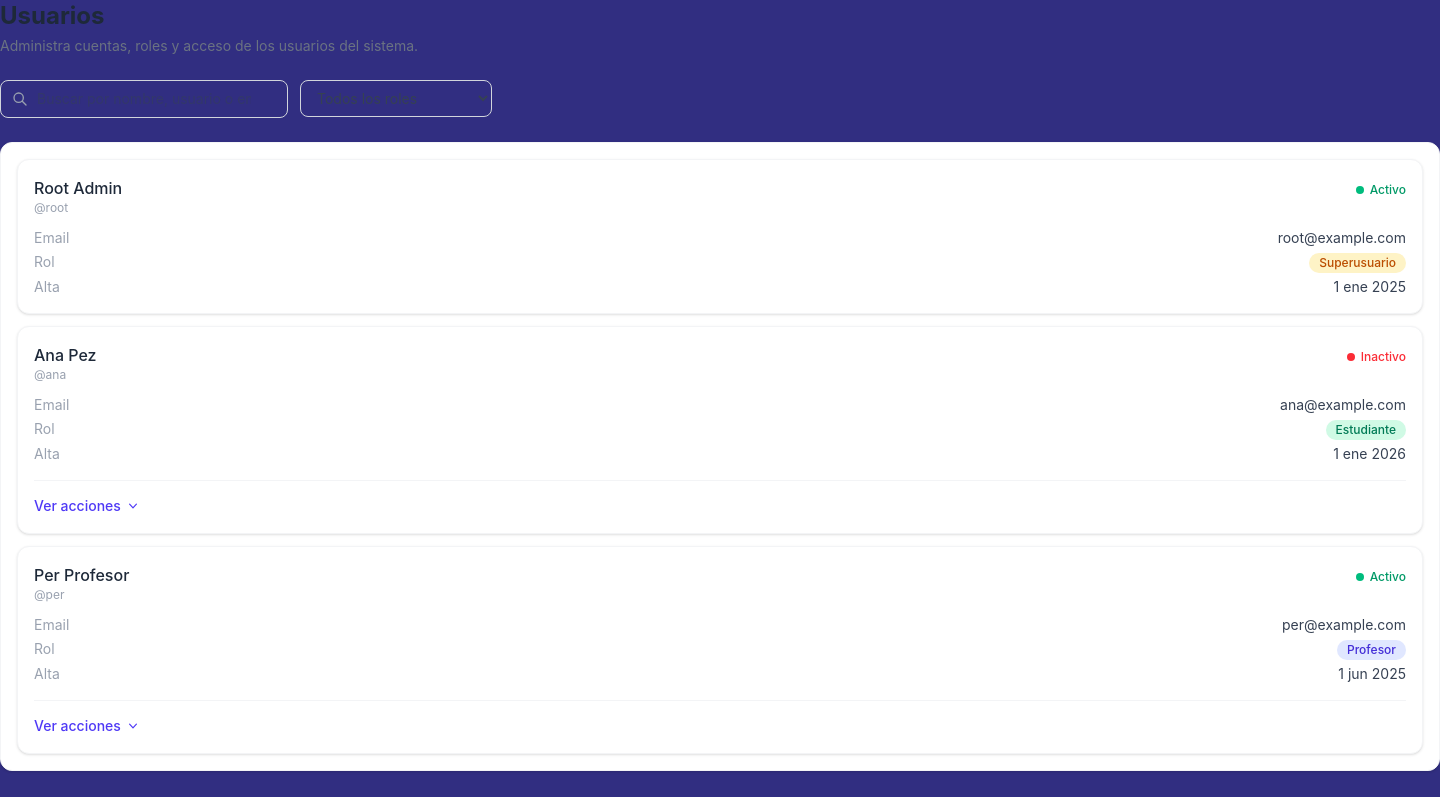
Test case: AdminUsersPage › en móvil renderiza cards con acciones plegables que se colapsan al perder el foco
Expected: the text "Ana Pez" is shown, [34,343,97,367]
Expected: the number of list items is 3, [17,159,1423,314]; [17,326,1423,534]; [17,546,1423,754]
Click the button "Ver acciones" below "Ana Pez" at (87, 506), box [34,496,141,516]
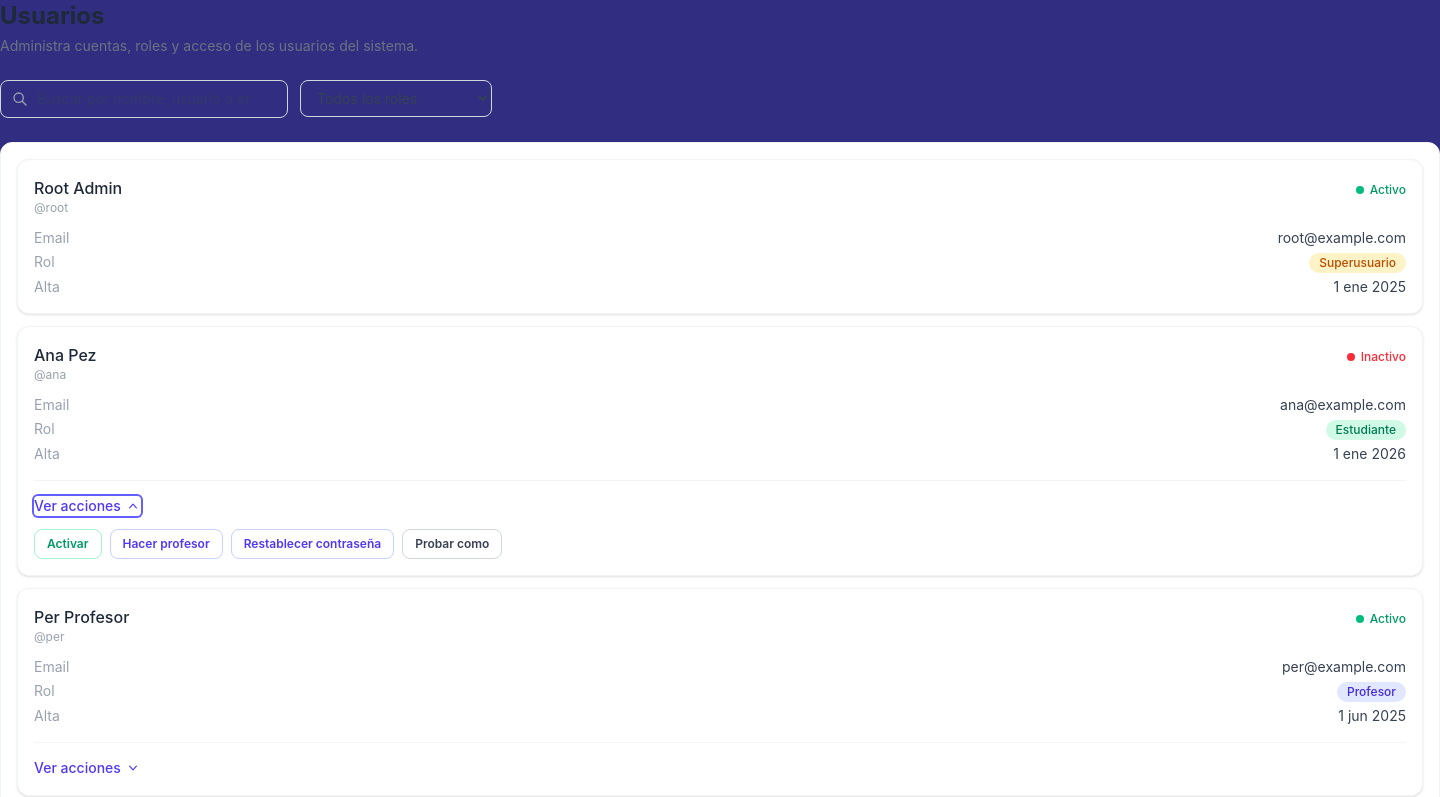
Result: the button "Ver acciones" below "Ana Pez" is expanded
Result: the button "Activar" is shown at [34,529,102,559]
Result: the button "Hacer profesor" is shown at [110,529,223,559]
Leave the button "Ver acciones" below "Ana Pez", box [34,496,141,516]
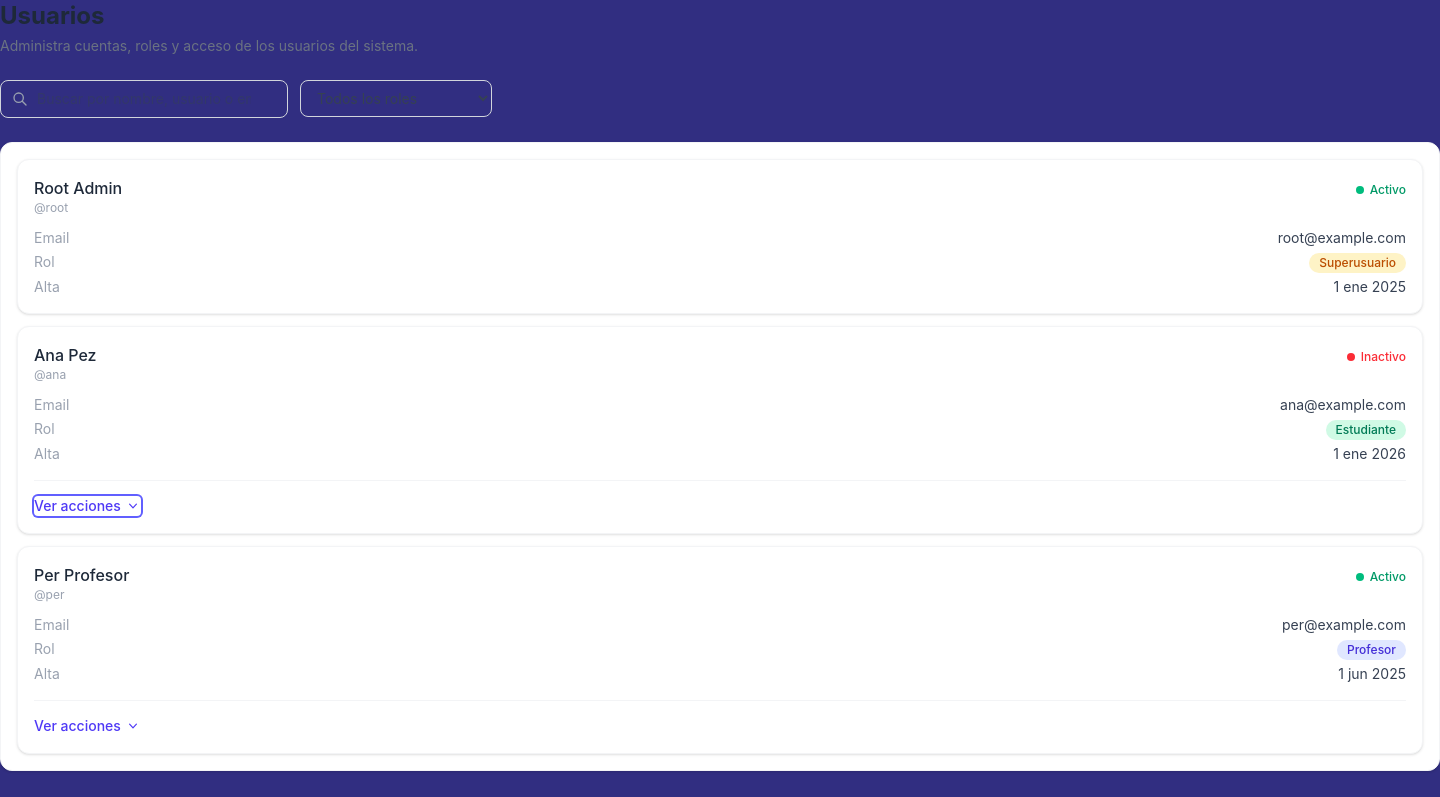
Result: the button "Ver acciones" below "Ana Pez" is collapsed at [34,496,141,516]
Result: the button "Activar" is gone
